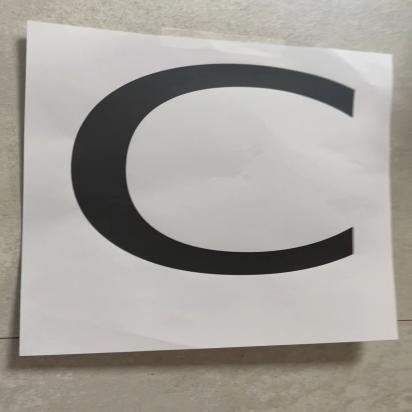seat: (54, 37, 412, 339)
